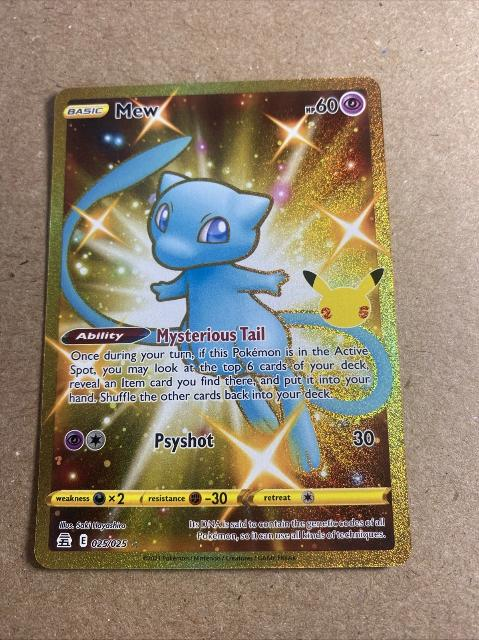Card: (25, 73, 418, 572)
Name: (109, 99, 163, 124)
